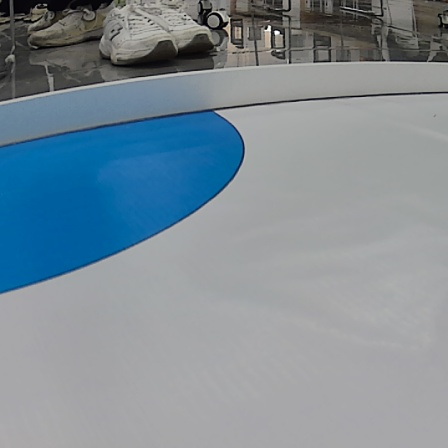blue_base: (1, 106, 246, 295)
